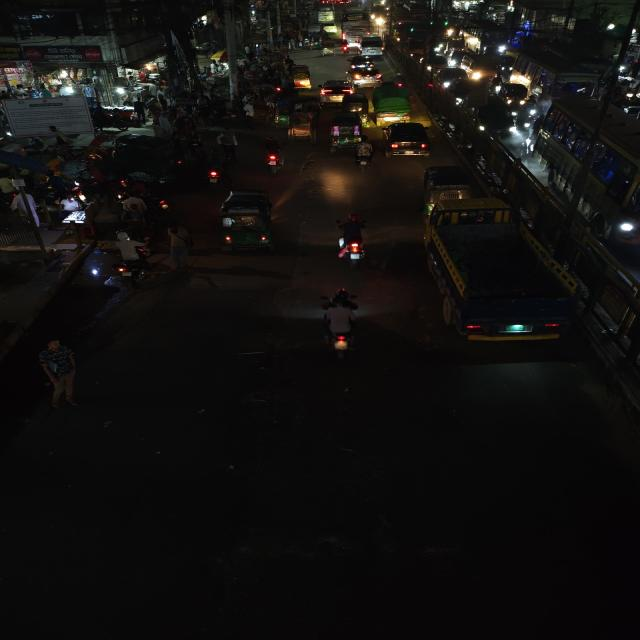bus: (540, 96, 640, 256), (507, 49, 599, 101)
car: (380, 120, 433, 158), (469, 100, 515, 140), (319, 80, 356, 102), (435, 66, 468, 89), (359, 35, 387, 56), (350, 68, 385, 84), (346, 56, 374, 70), (623, 102, 640, 120)
cng: (214, 188, 278, 256), (109, 134, 186, 183), (328, 112, 364, 149), (343, 93, 369, 115)
motorcycle: (316, 289, 366, 363), (107, 241, 157, 289), (330, 212, 370, 270), (260, 135, 287, 173), (200, 151, 227, 187), (352, 140, 374, 170)
pedestrian: (30, 339, 90, 407), (163, 223, 194, 270), (214, 127, 241, 161)
pickup_van: (420, 194, 577, 346), (368, 84, 414, 124)
rickshaw: (285, 110, 319, 142), (287, 63, 314, 89)
